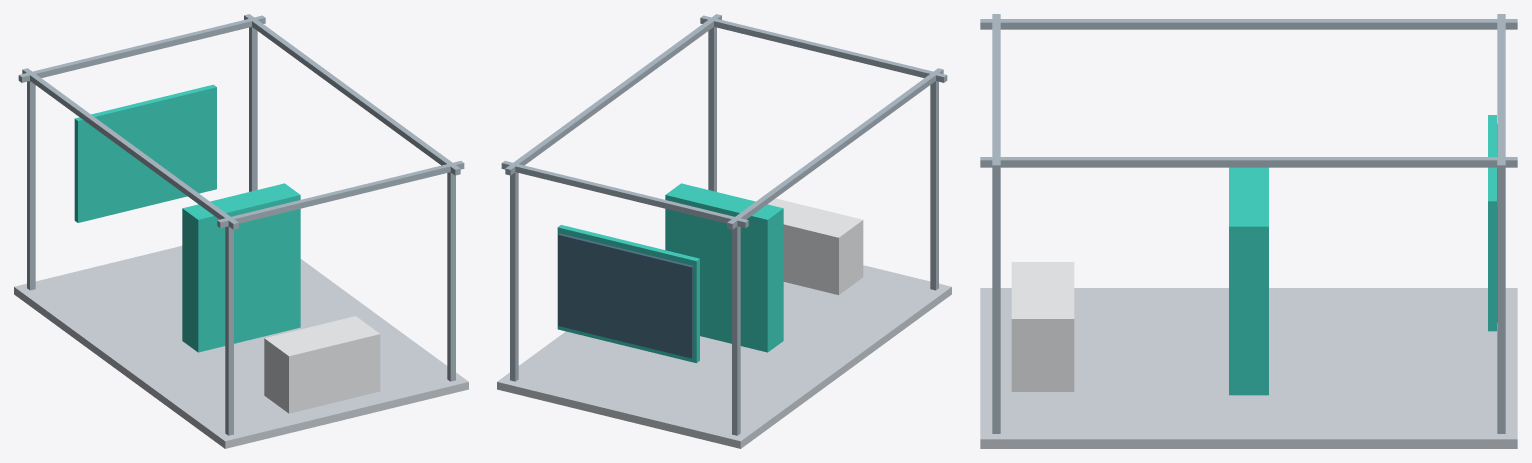
The picture shows the model from 3 angles, left to right: view 1: azimuth 30°, elevation 25°; view 2: azimuth 150°, elevation 25°; view 3: azimuth 270°, elevation 25°; orthographic projection. The views are drawn at different scales.
Parts seen in each view (by area): view 1: Exhibition Booth Concept; view 2: Exhibition Booth Concept; view 3: Exhibition Booth Concept.
Part boxes in pixels (<box>): Exhibition Booth Concept: <box>14,14,468,448</box>; Exhibition Booth Concept: <box>497,14,951,448</box>; Exhibition Booth Concept: <box>980,14,1517,448</box>.
Size of the model in its own units: 4 by 3.49 by 6.
